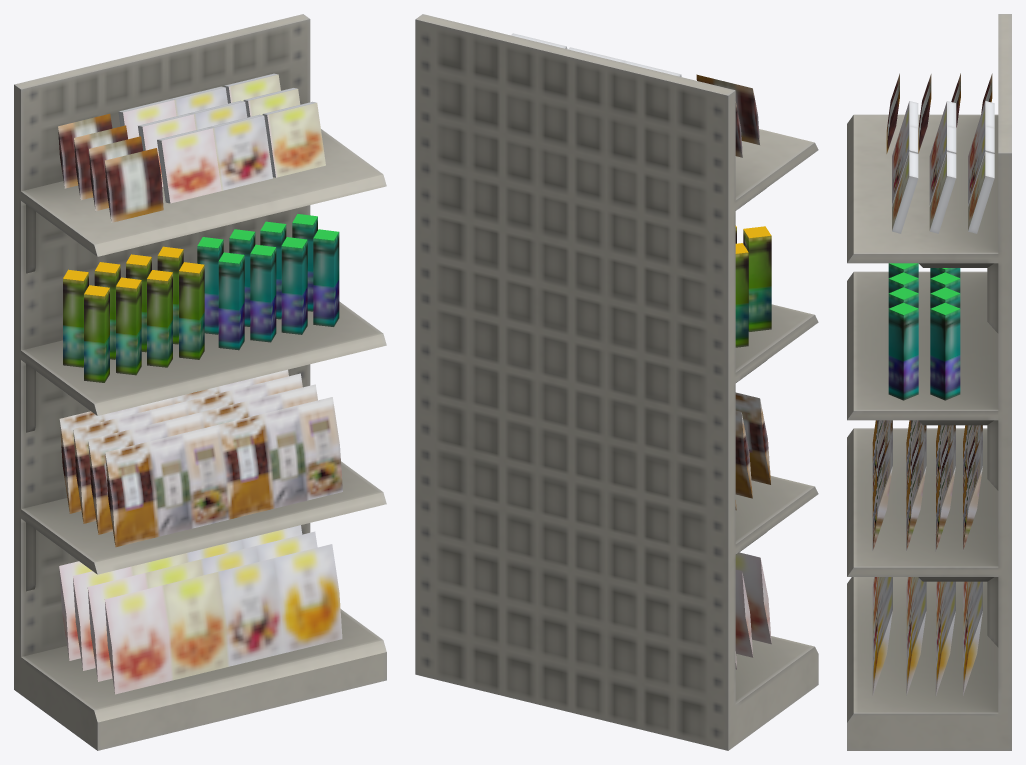
File: sb_obj_ModernCity063_store_shelf_c.fbx
The picture shows the model from 3 angles, left to right: view 1: azimuth 30°, elevation 25°; view 2: azimuth 150°, elevation 25°; view 3: azimuth 270°, elevation 25°; orthographic projection. The views are drawn at different scales.
Parts seen in each view (by area): view 1: sb_obj_ModernCity063_store_shelf_c; view 2: sb_obj_ModernCity063_store_shelf_c; view 3: sb_obj_ModernCity063_store_shelf_c.
Boxes of the visible parts, left/top/right/bottom form: sb_obj_ModernCity063_store_shelf_c: left=14, top=14, right=386, bottom=750; sb_obj_ModernCity063_store_shelf_c: left=415, top=14, right=818, bottom=750; sb_obj_ModernCity063_store_shelf_c: left=847, top=14, right=1011, bottom=750.
Size of the model in its own units: 0.64 by 1.28 by 0.32.
